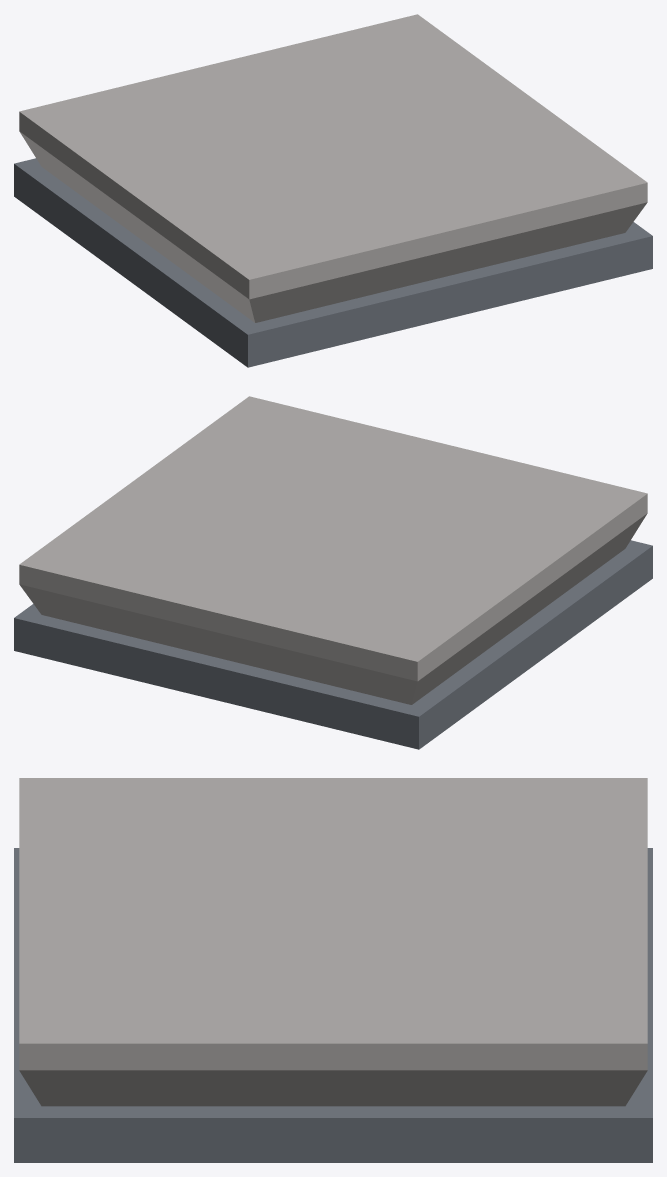
Rendered from SM_Prop_Light_07.glb.
3 renders of one model, top to bottom at view 1: azimuth 30°, elevation 25°; view 2: azimuth 150°, elevation 25°; view 3: azimuth 270°, elevation 25°, orthographic. The views are drawn at different scales.
Parts seen in each view (by area): view 1: SM_Prop_Light_07; view 2: SM_Prop_Light_07; view 3: SM_Prop_Light_07.
Boxes of the visible parts, box(x1,y1,x2,y2) form: SM_Prop_Light_07: box(14, 14, 652, 367); SM_Prop_Light_07: box(14, 396, 652, 749); SM_Prop_Light_07: box(14, 778, 652, 1162).
Size of the model in its own units: 0.7993 by 0.1614 by 0.7993.
1 material, 1 textured.
